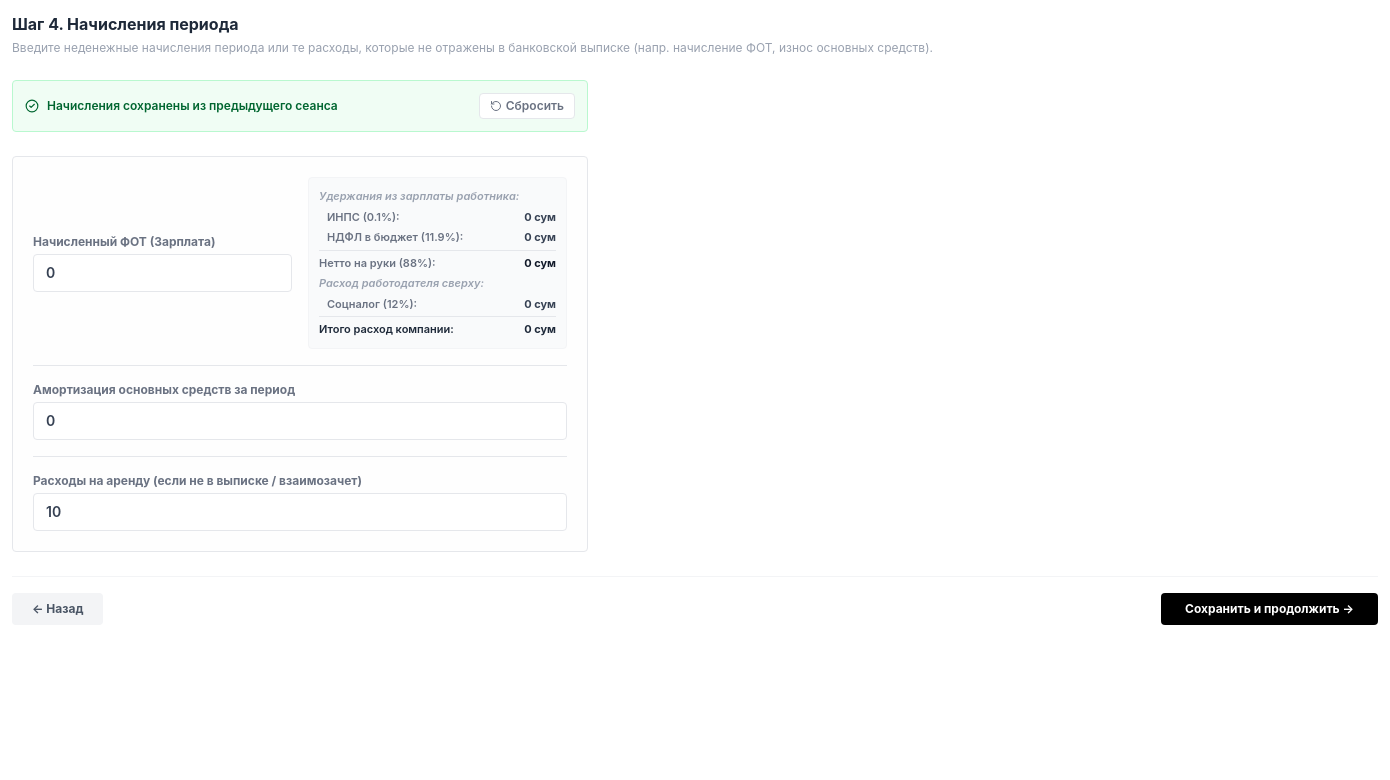
it: accrual step period isolation without a browser › disables reset while saving
Click the button "Сохранить и продолжить →" at (1270, 608), box [1161, 592, 1378, 624]
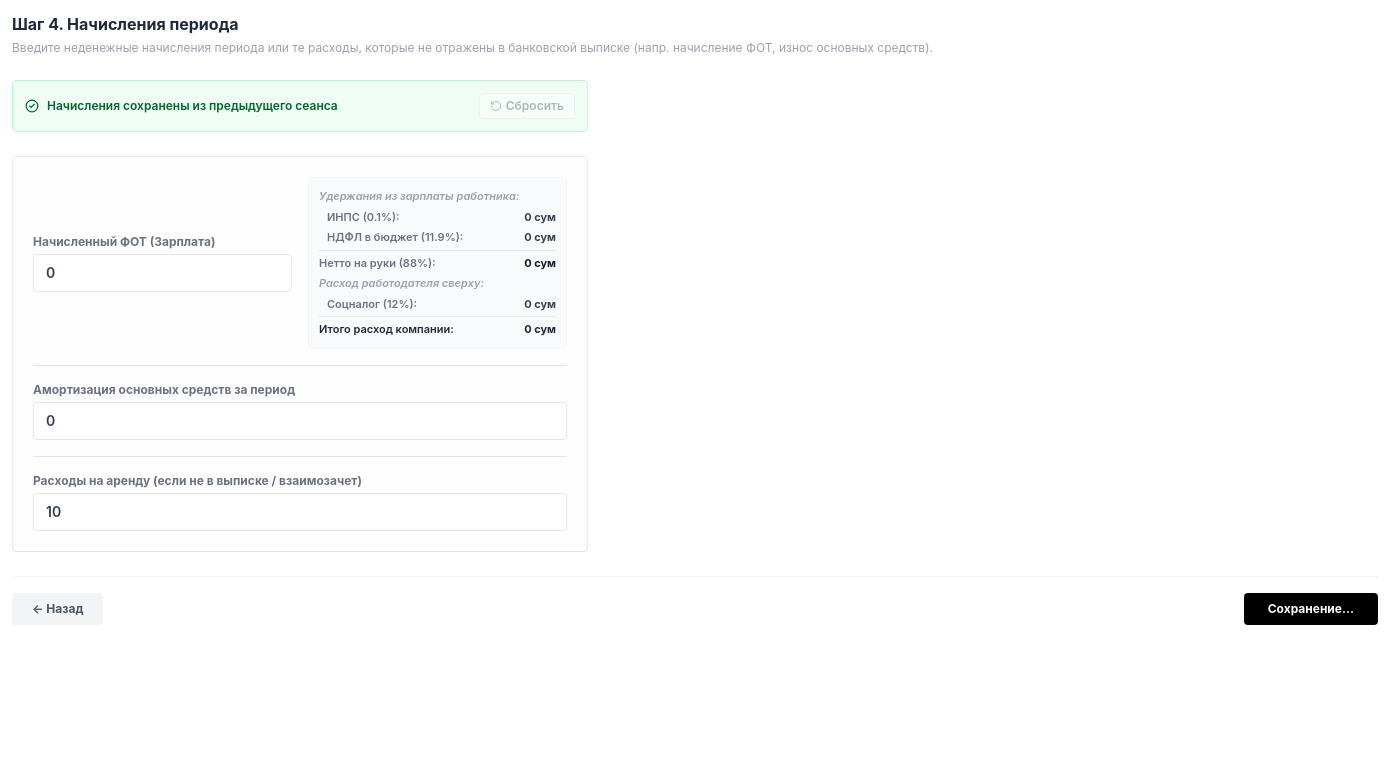
expect the button "Сбросить" is disabled: met, box [479, 93, 575, 119]
